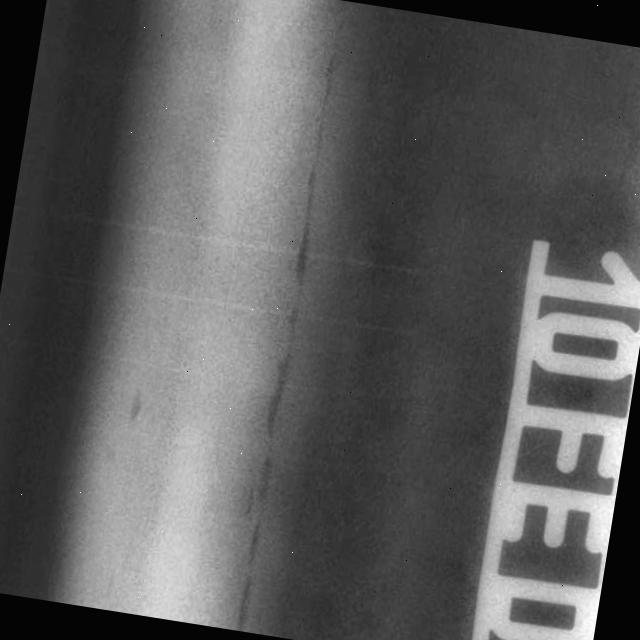LoP-LoF: (213, 0, 371, 636)
